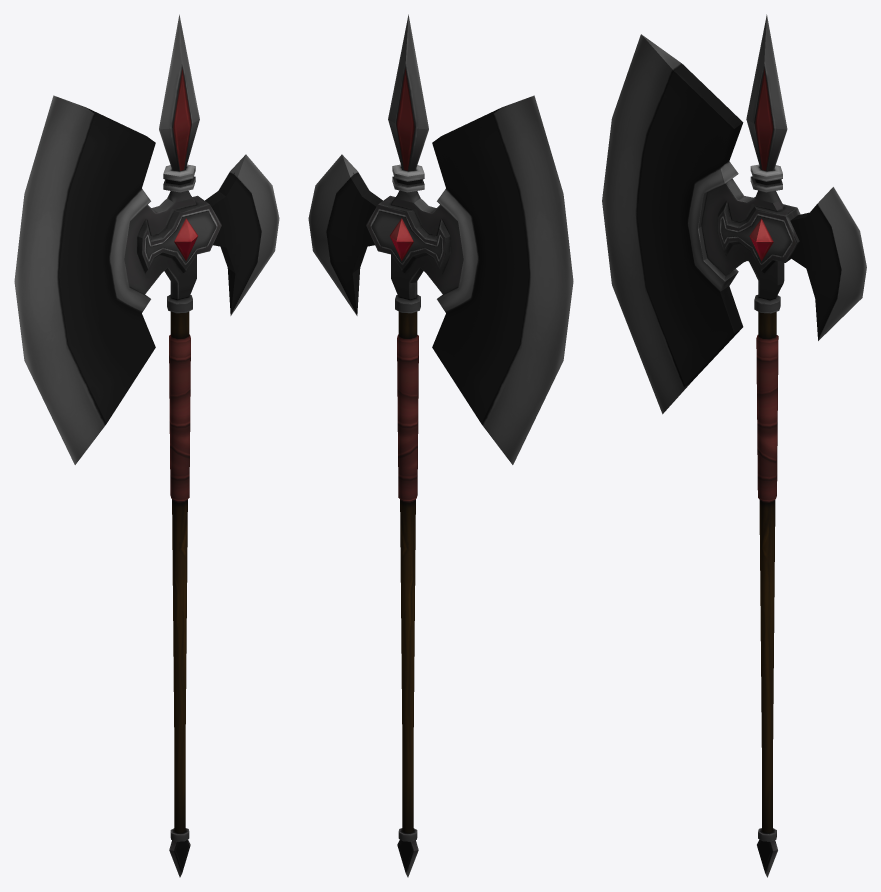
File: weapon_dark_axe.fbx
3 views of the same model, side by side, from view 1: azimuth 30°, elevation 25°; view 2: azimuth 150°, elevation 25°; view 3: azimuth 330°, elevation 25° (orthographic).
Visible parts, largest first — view 1: darkKnight_axe; view 2: darkKnight_axe; view 3: darkKnight_axe.
Part boxes in pixels (bbox=[...]): darkKnight_axe: bbox=[14, 14, 279, 877]; darkKnight_axe: bbox=[308, 14, 573, 877]; darkKnight_axe: bbox=[602, 14, 866, 877].
Size of the model in its own units: 47.02 by 146 by 6.98.
1 material, 1 textured.
